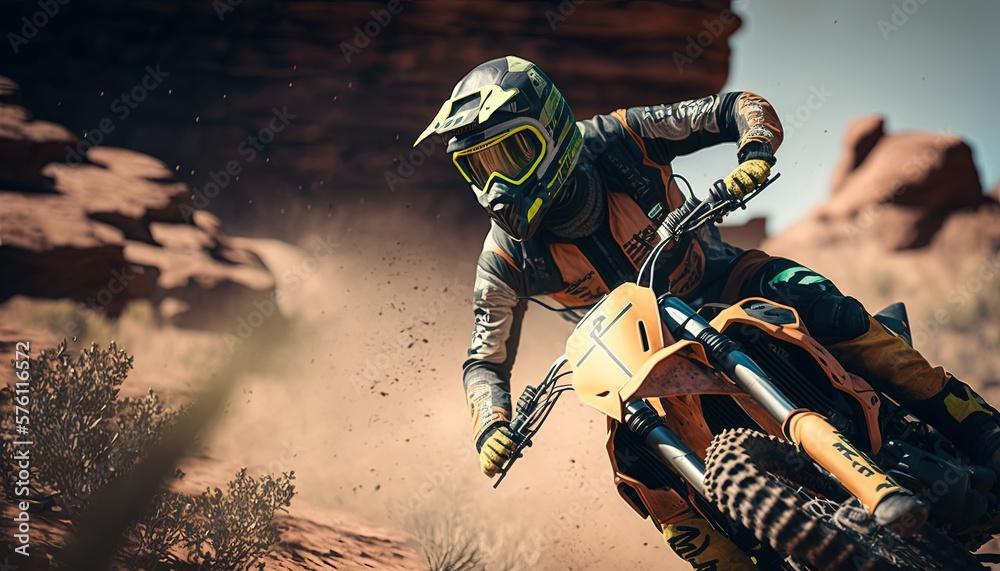helmet: (411, 53, 585, 243)
